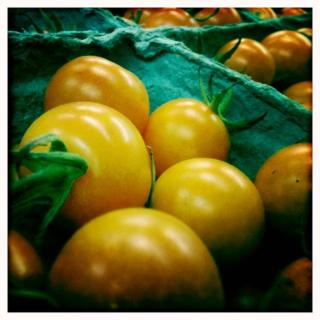tomato: (4, 100, 150, 248), (51, 206, 223, 310), (149, 157, 262, 256), (44, 55, 148, 135), (139, 95, 232, 166), (218, 38, 274, 88), (262, 30, 308, 72), (143, 7, 202, 27), (194, 7, 238, 26)
